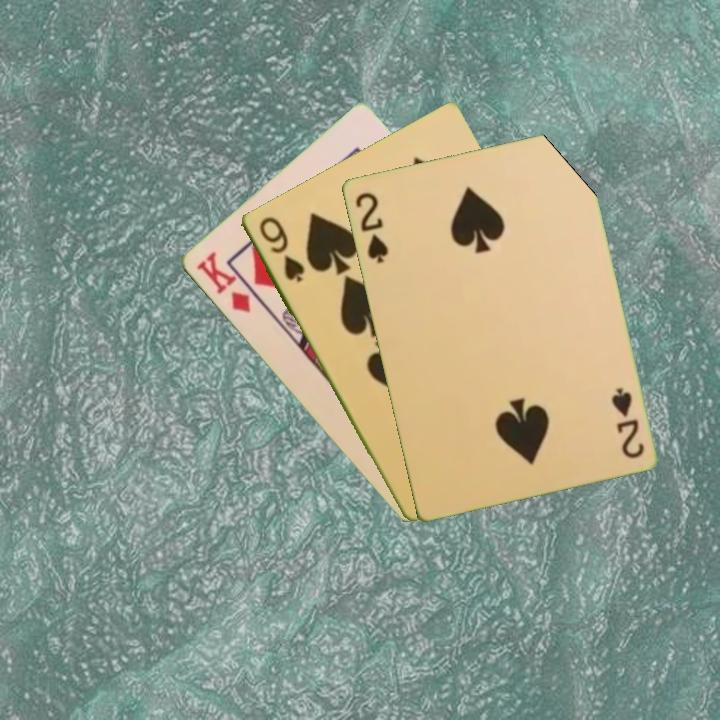2s: (351, 188, 391, 266), (607, 383, 647, 461)
9s: (255, 213, 307, 285)
Kd: (192, 248, 254, 316)
